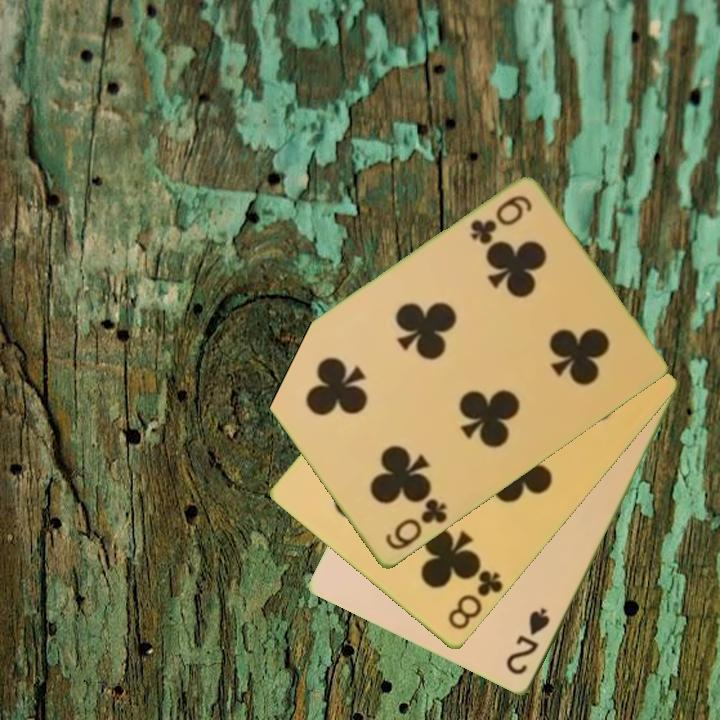2s: (503, 604, 553, 679)
6c: (381, 495, 450, 554), (466, 192, 535, 248)
8c: (444, 567, 506, 634)
